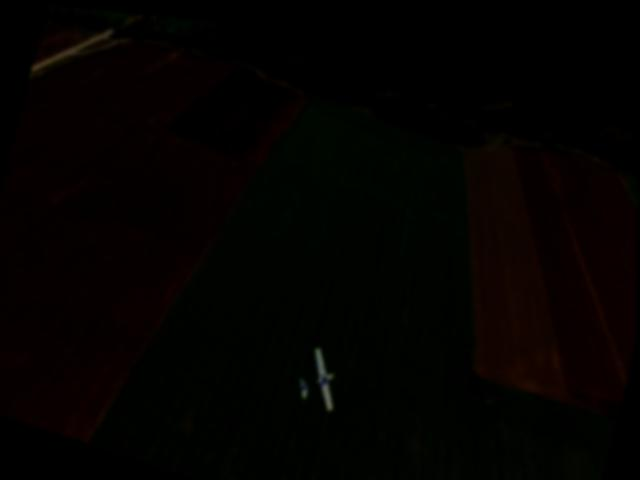uav: (290, 328, 352, 417)
